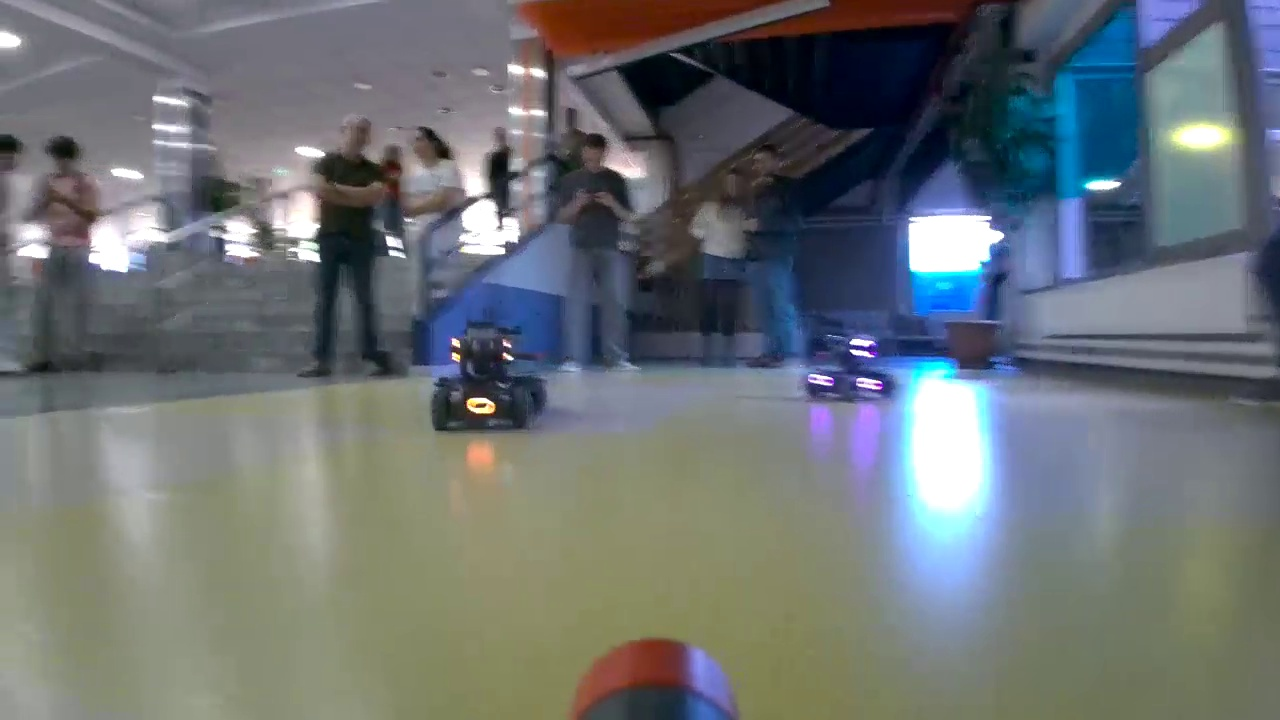robot: (430, 326, 548, 430), (806, 334, 892, 402)
